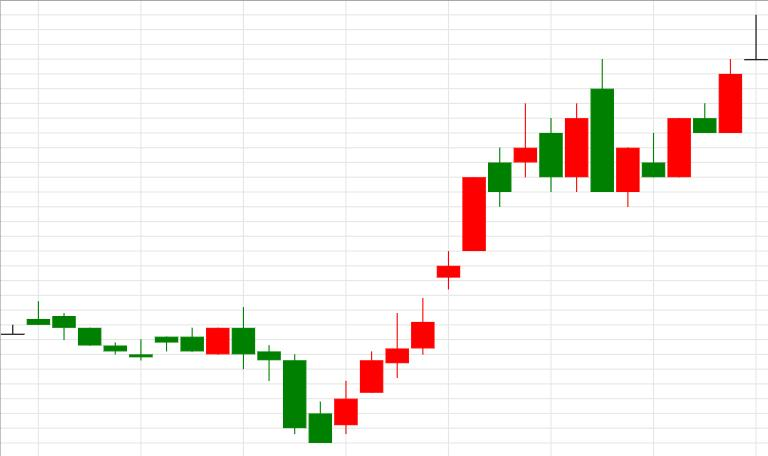bearish_engulfing_fall: (334, 59, 614, 433)
